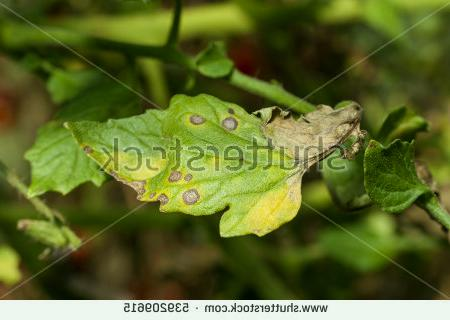Tomato leaf late blight: (55, 89, 373, 238)
